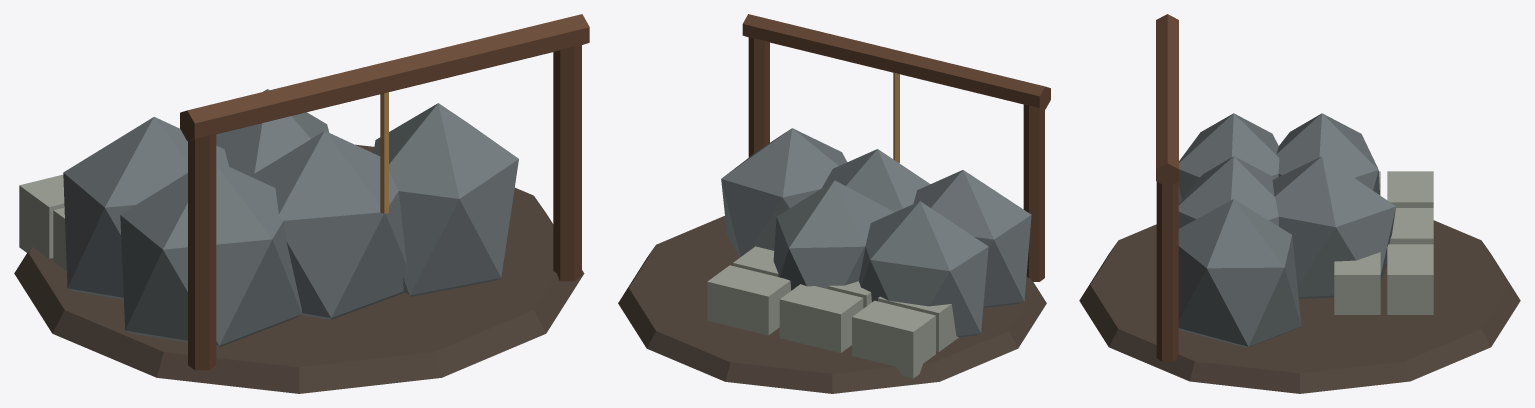
The model's file is Field_Stone_3.fbx.
3 views of the same model, side by side, from view 1: azimuth 30°, elevation 25°; view 2: azimuth 150°, elevation 25°; view 3: azimuth 270°, elevation 25° (orthographic). The views are drawn at different scales.
Visible parts, largest first — view 1: Field_Stone_3; view 2: Field_Stone_3; view 3: Field_Stone_3.
Part boxes in pixels (left/top/right/bottom): Field_Stone_3: left=14, top=14, right=589, bottom=393; Field_Stone_3: left=618, top=14, right=1050, bottom=393; Field_Stone_3: left=1079, top=14, right=1520, bottom=393.
Bounding box in the file's own units: 2 × 1.19 × 2.
1 material, 1 textured.
